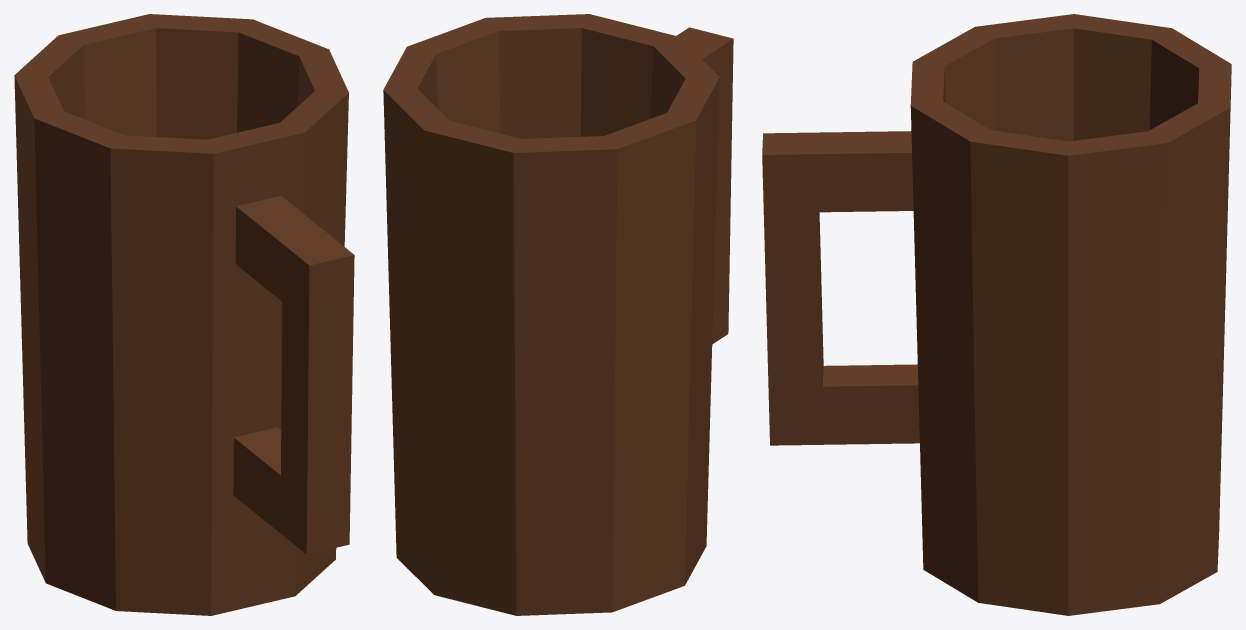
Rendered from tablecupwood02.gltf.
3 renders of one model, left to right at view 1: azimuth 30°, elevation 25°; view 2: azimuth 150°, elevation 25°; view 3: azimuth 270°, elevation 25°, orthographic.
Visible parts, largest first — view 1: Cylinder.001; view 2: Cylinder.001; view 3: Cylinder.001.
Part boxes in pixels (bbox=[...]): Cylinder.001: bbox=[14, 14, 354, 615]; Cylinder.001: bbox=[383, 14, 733, 615]; Cylinder.001: bbox=[762, 14, 1231, 615].
Size of the model in its own units: 0.0941 by 0.144 by 0.1316.
Materials: 1 (1 with a texture image).
